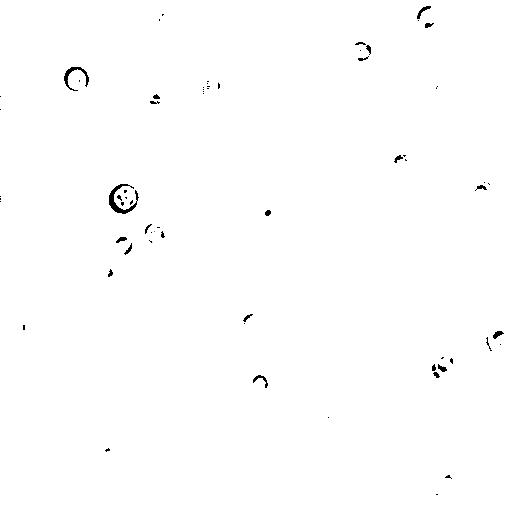micro-algae: (421, 464, 465, 507), (105, 183, 140, 215), (485, 319, 512, 357), (248, 197, 282, 227), (429, 350, 461, 377), (63, 65, 91, 94), (413, 4, 439, 31), (199, 75, 223, 103), (96, 439, 119, 466), (240, 311, 266, 333), (143, 221, 165, 245), (430, 77, 453, 99), (394, 153, 416, 176), (472, 179, 493, 201), (350, 40, 373, 60), (250, 373, 269, 394), (155, 8, 174, 28), (115, 235, 132, 255), (94, 263, 115, 279), (11, 318, 25, 337)
